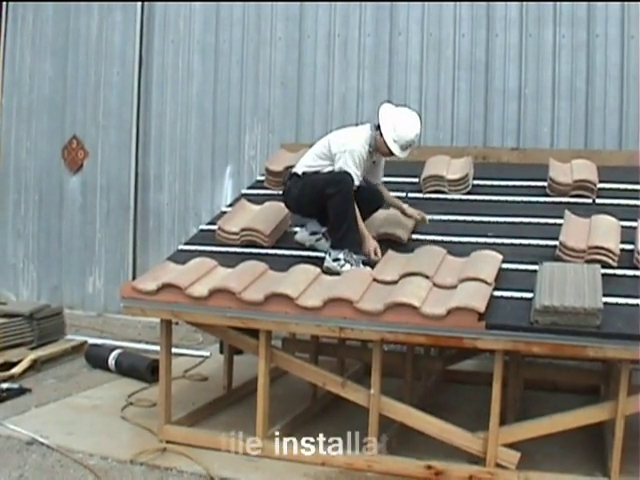person: (282, 100, 429, 274)
